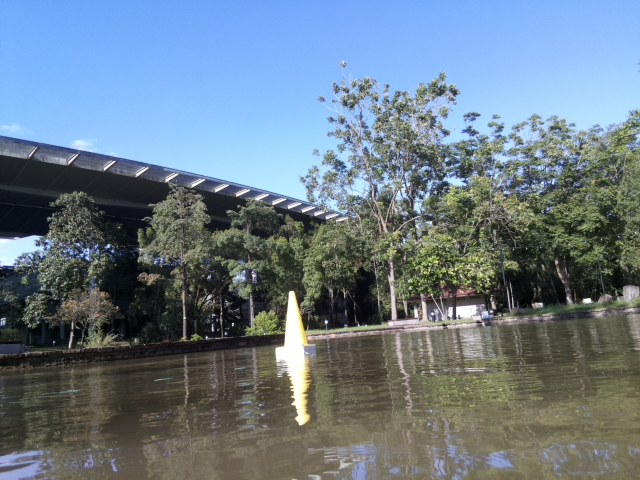checkpoint: (274, 289, 317, 362)
